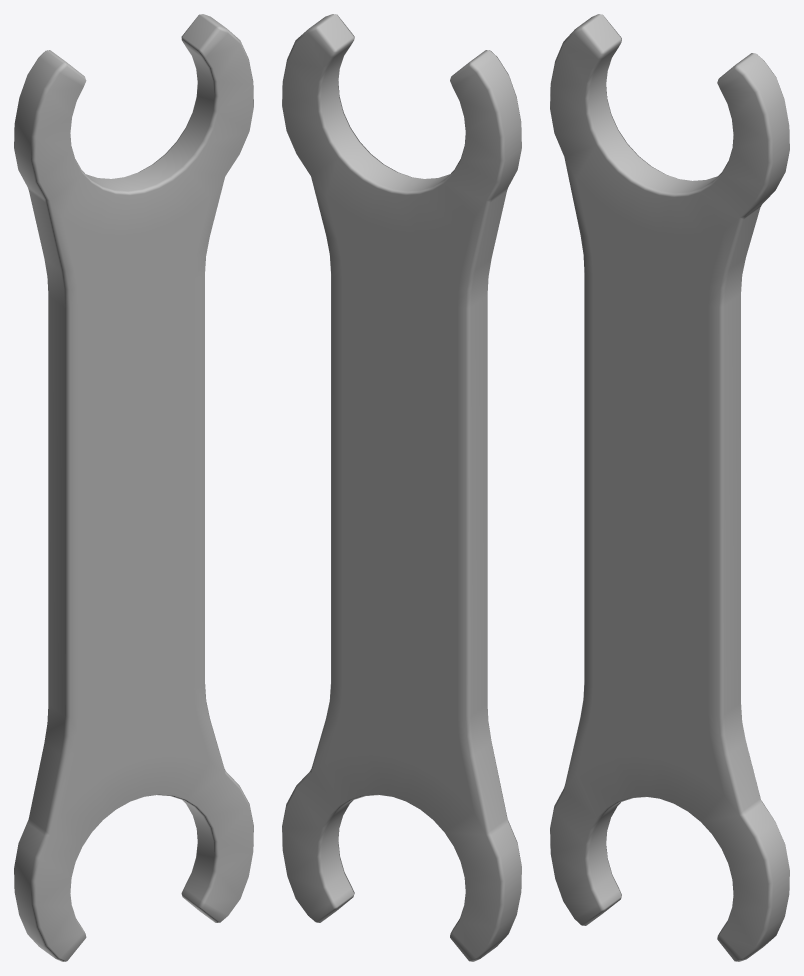
Rendered from Public_5_Wrench_1.glb.
3 views of the same model, side by side, from view 1: azimuth 30°, elevation 25°; view 2: azimuth 150°, elevation 25°; view 3: azimuth 330°, elevation 25° (orthographic).
Parts seen in each view (by area): view 1: Public_5_Wrench_1; view 2: Public_5_Wrench_1; view 3: Public_5_Wrench_1.
Boxes of the visible parts, <box> form: Public_5_Wrench_1: <box>14,14,253,961</box>; Public_5_Wrench_1: <box>282,14,521,961</box>; Public_5_Wrench_1: <box>550,14,789,961</box>.
Size of the model in its own units: 0.6132 by 2.36 by 0.1026.
Materials: 1 (1 with a texture image).
